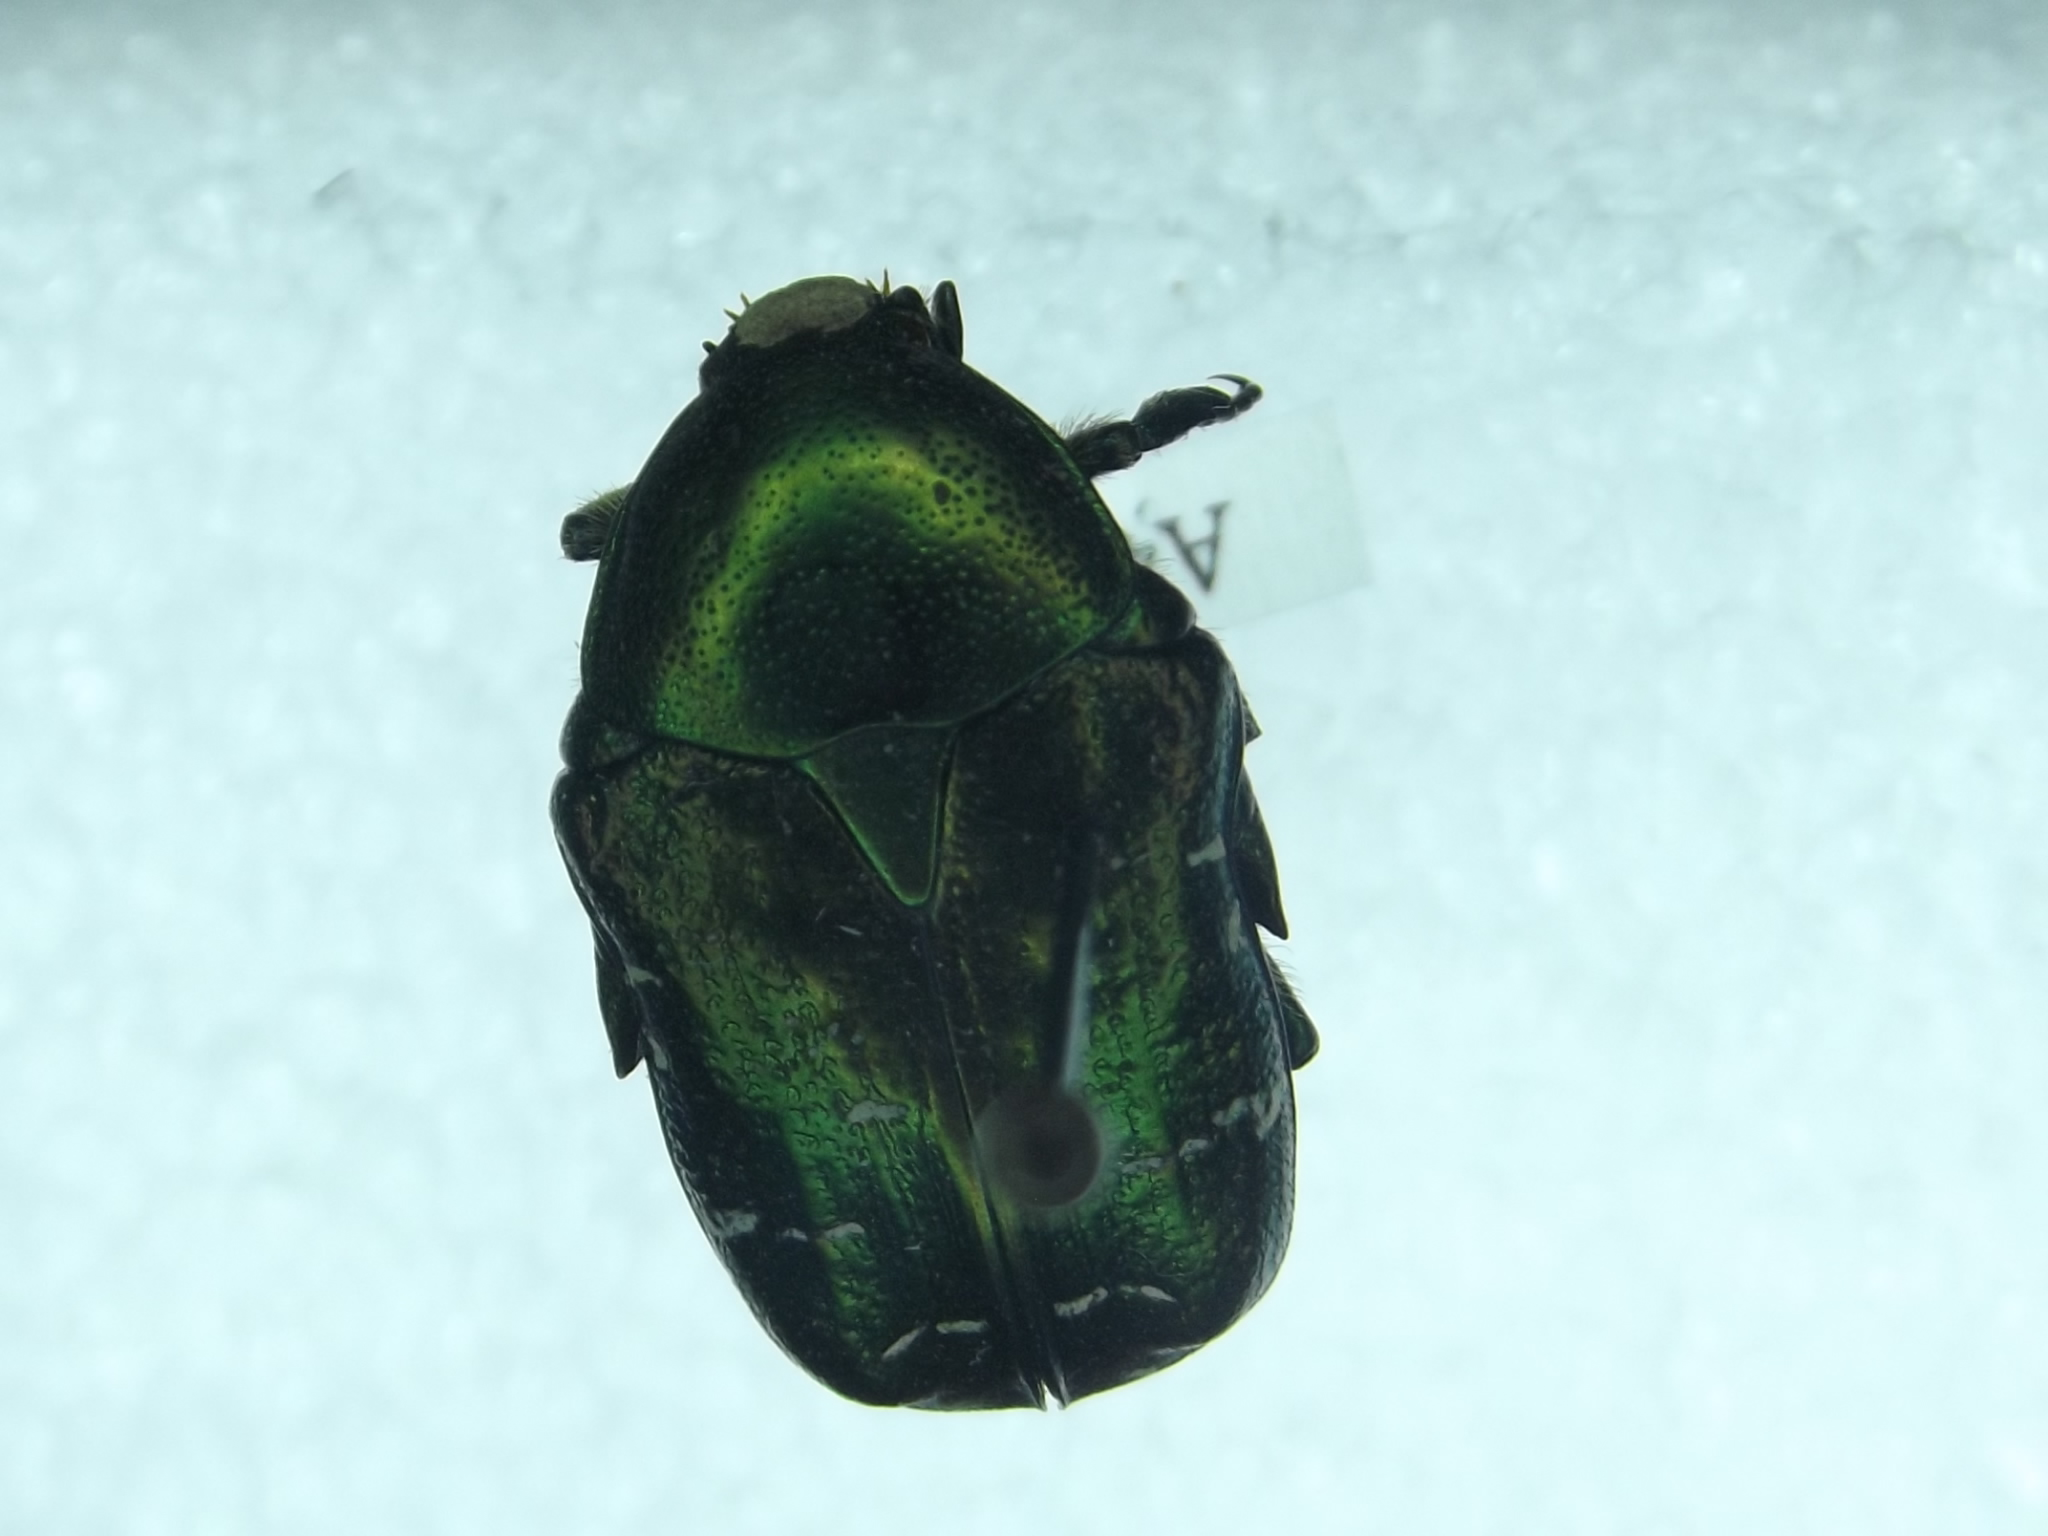Cetonia_kemali: (534, 229, 1322, 1430)
